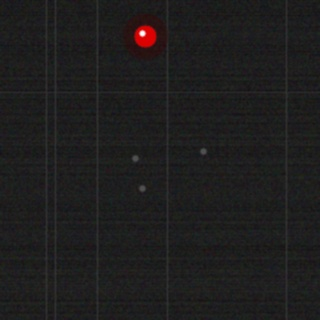red_fault: (132, 23, 158, 49)
